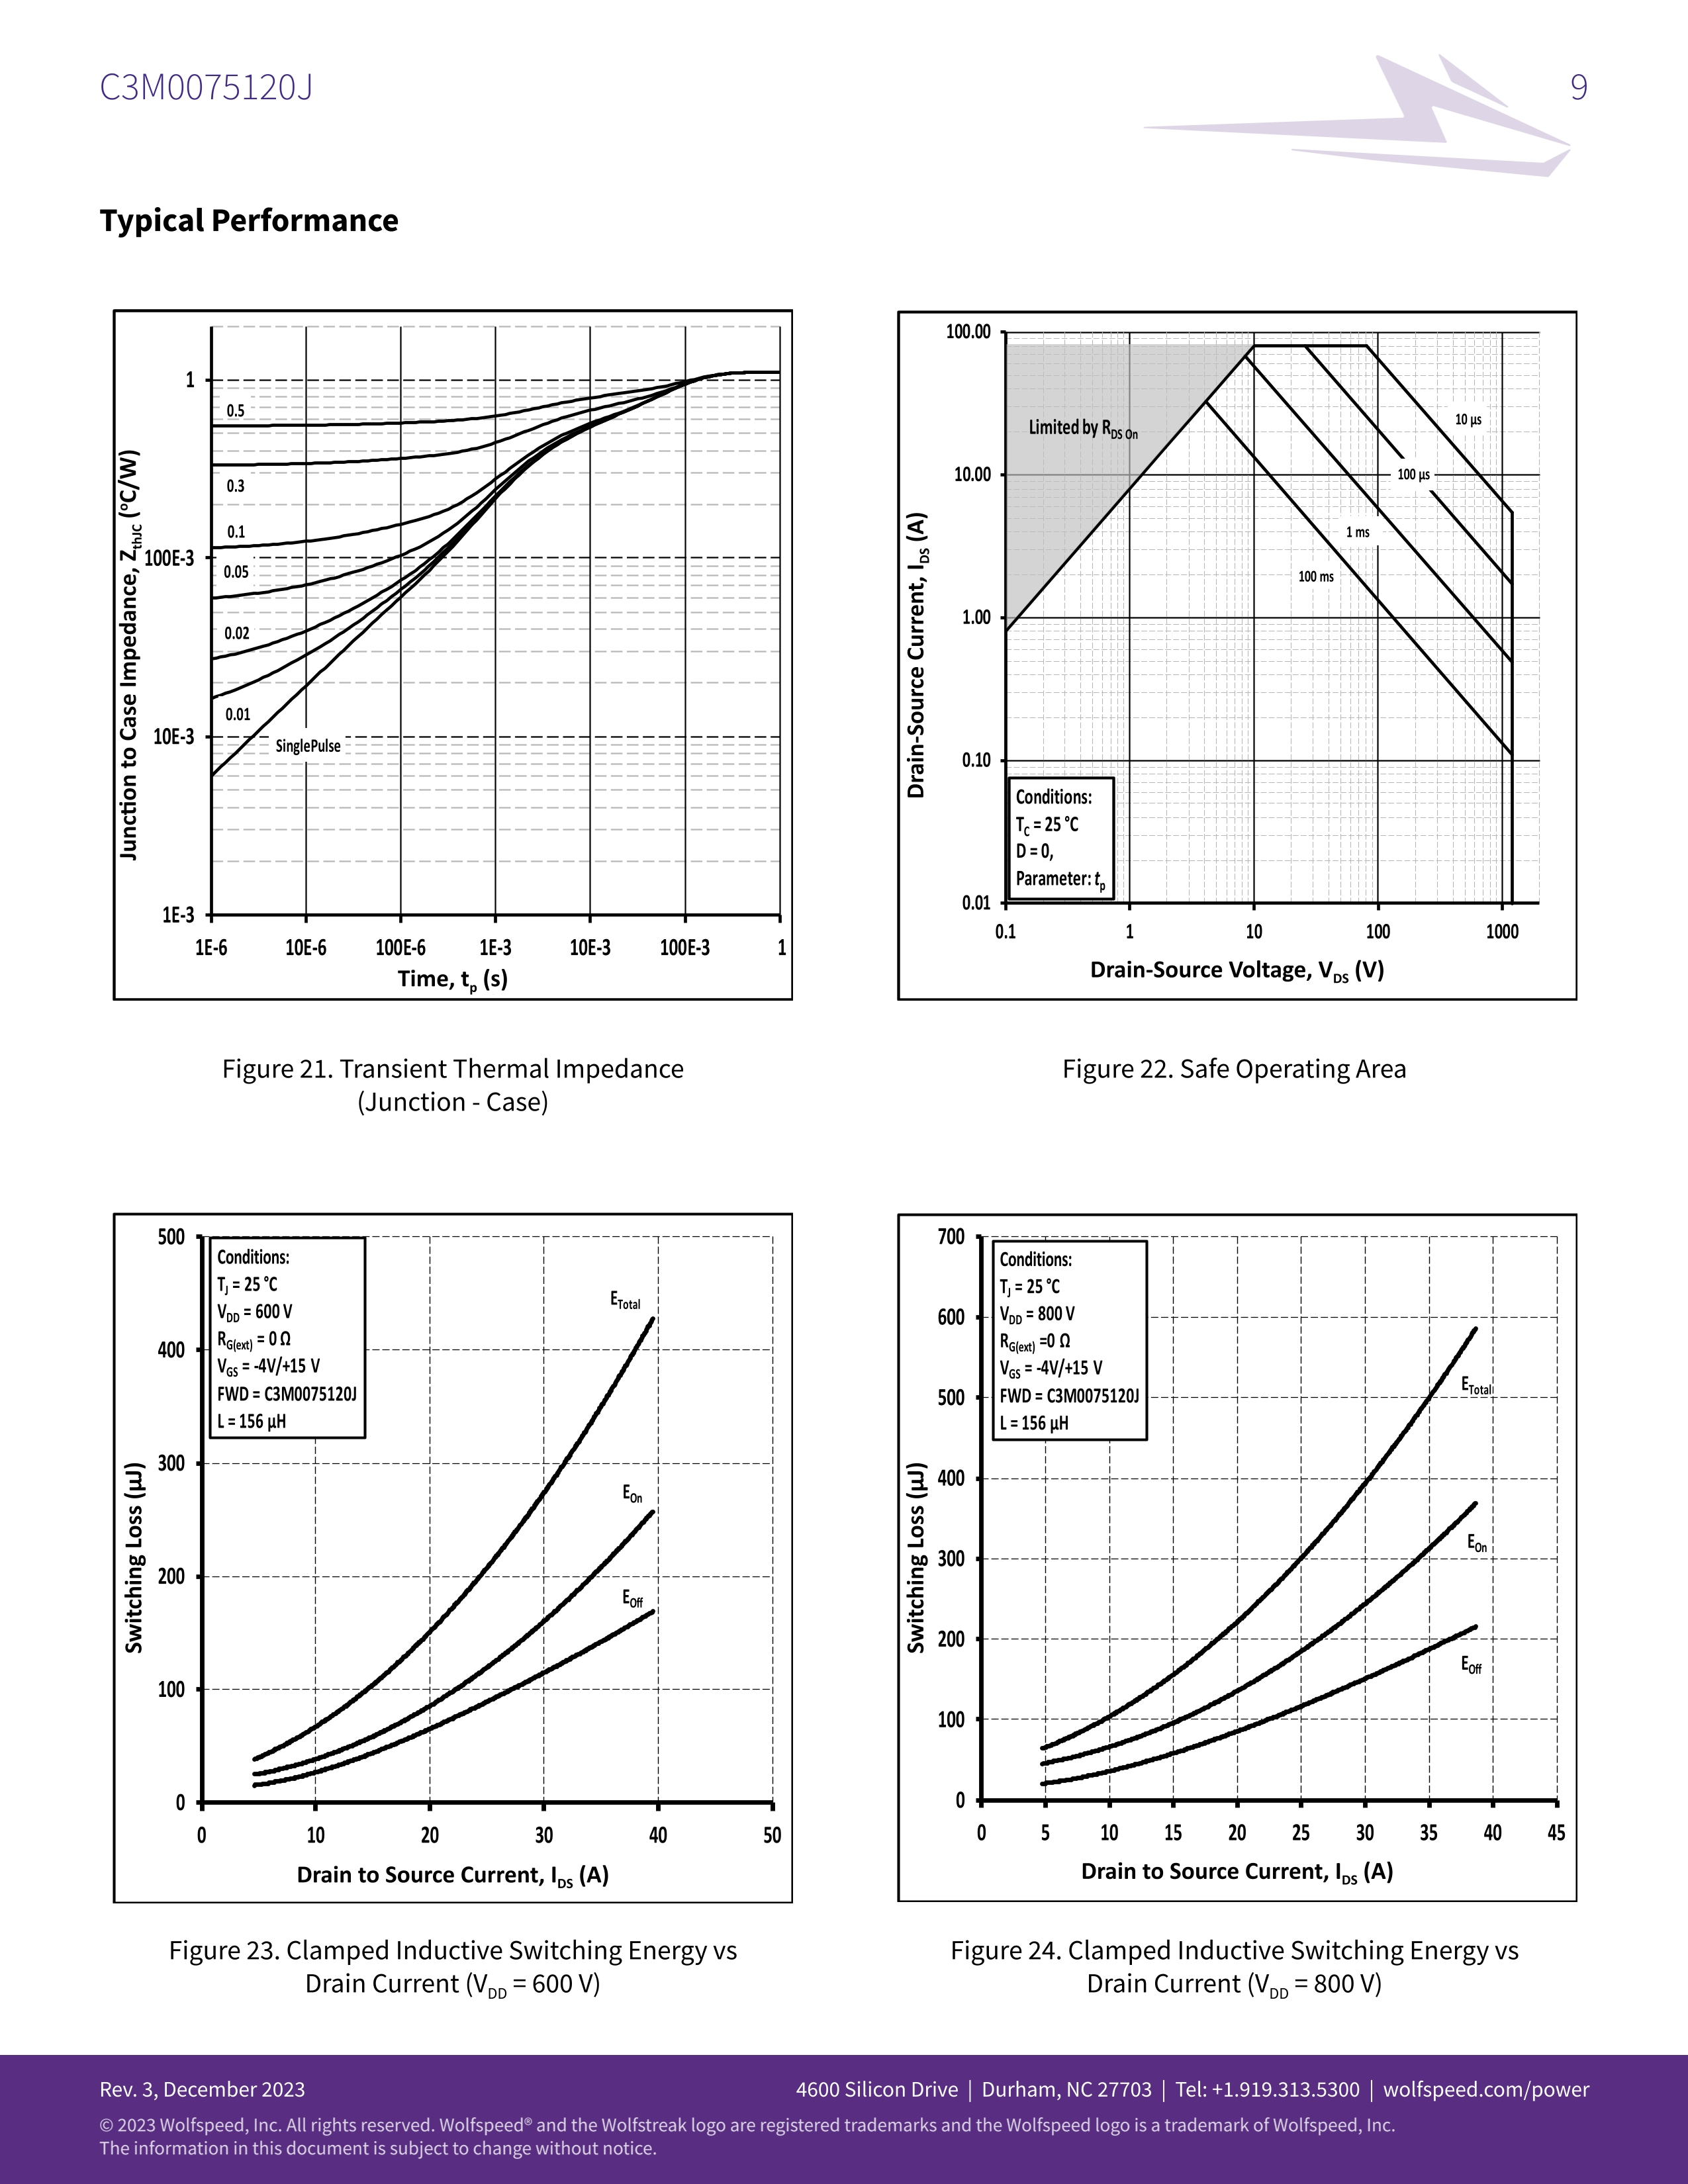diagram: (879, 298, 1628, 1145), (103, 300, 824, 1161), (885, 1200, 1605, 2039), (101, 1202, 814, 2042)
